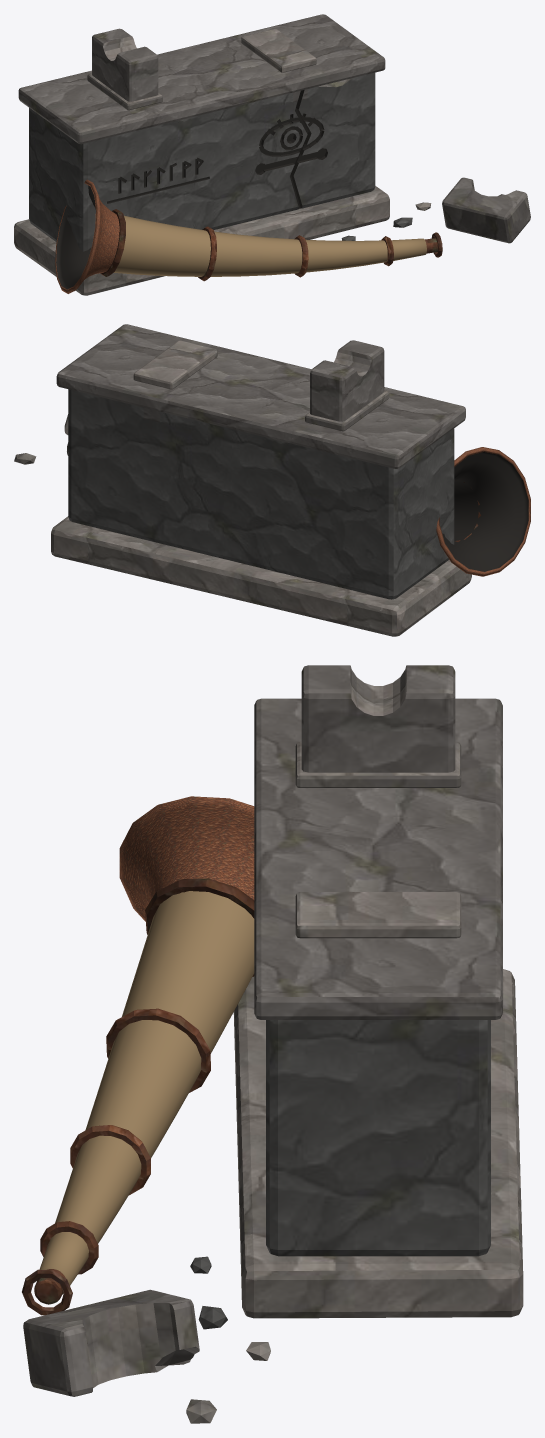
File: vo_horn_fallen.glb
3 renders of one model, top to bottom at view 1: azimuth 30°, elevation 25°; view 2: azimuth 150°, elevation 25°; view 3: azimuth 270°, elevation 25°, orthographic. The views are drawn at different scales.
Visible parts, largest first — view 1: model; view 2: model; view 3: model.
Boxes of the visible parts, left/top/right/bottom form: model: left=14, top=14, right=530, bottom=295; model: left=14, top=324, right=530, bottom=636; model: left=22, top=665, right=523, bottom=1423.
Bounding box in the file's own units: 1.74 × 0.7813 × 0.8471.
Materials: 8 (6 with a texture image).
